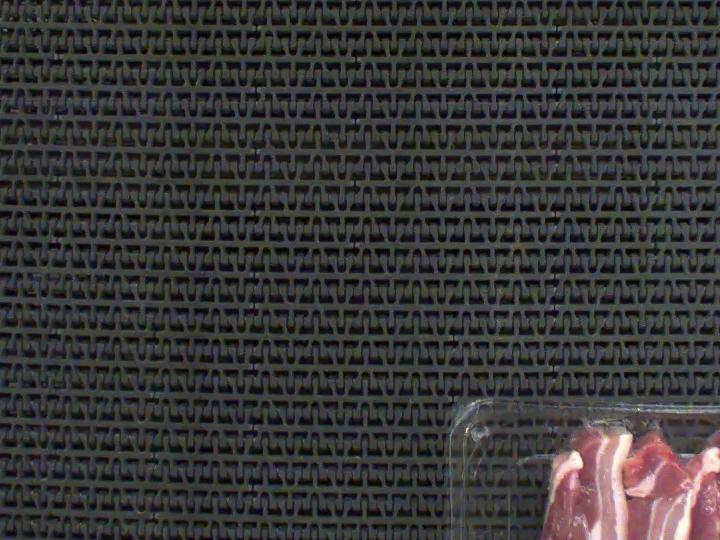packaging-error: (580, 416, 663, 436)
